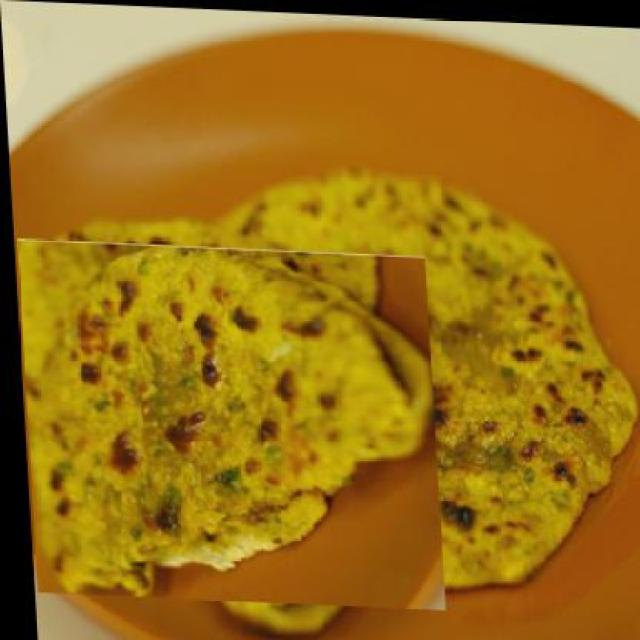chapati: (216, 163, 638, 595), (28, 226, 428, 622)
